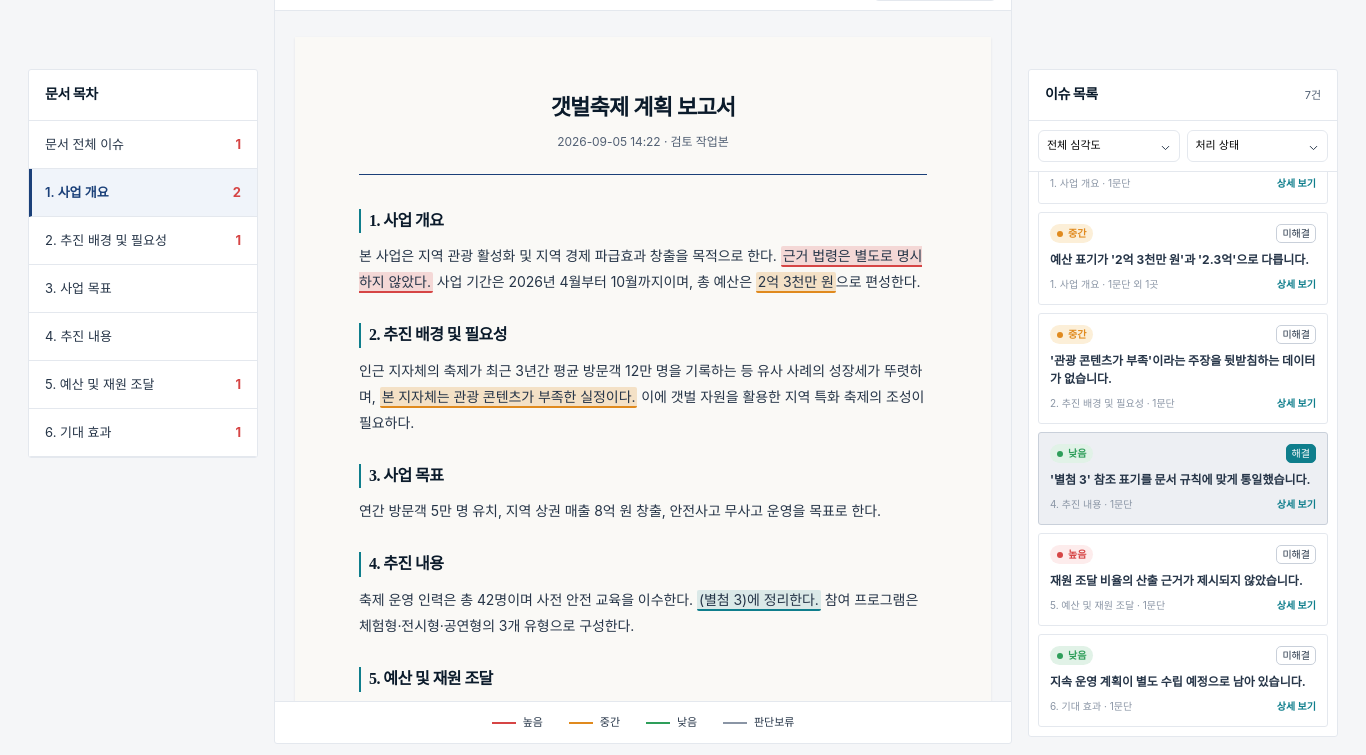
Test: ResultPage document view › 적용 완료 문장은 잠그고 적용 취소 후 상세 화면에서 다시 편집할 수 있게 한다
(page scrolled)
Click the button "낮음 해결 '별첨 3' 참조 표기를 문서 규칙에 맞게 통일했습니다. 4. 추진 내용 · 1문단 상세 보기". click: (1183,478)
box: [1038,432,1328,525]
(page scrolled)
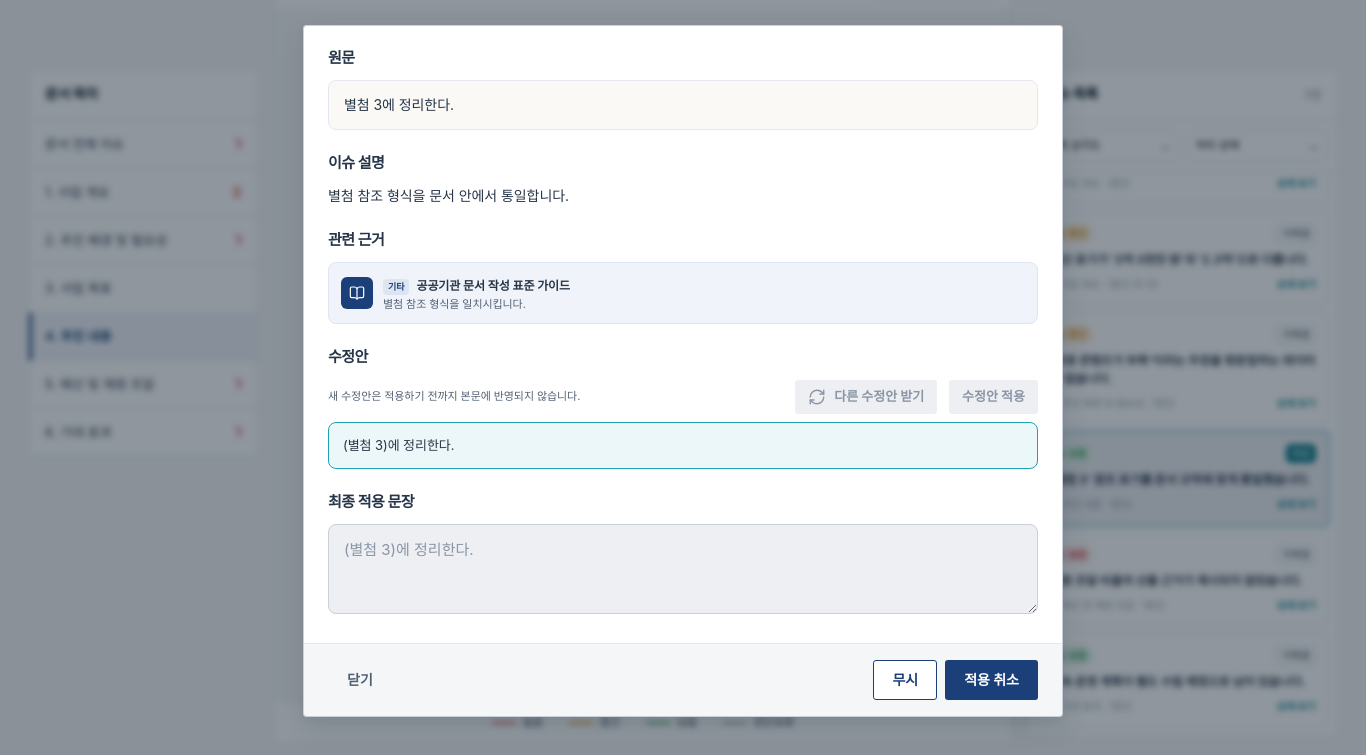
Expected: the text box named "최종 적용 문장" is disabled, [328,524,1038,614]
Expected: the button "다른 수정안 받기" is disabled, [795,380,937,414]
Expected: the button "수정안 적용" is disabled, [949,380,1038,414]
Click the button "적용 취소". click: (992,680)
box: [945,660,1038,700]
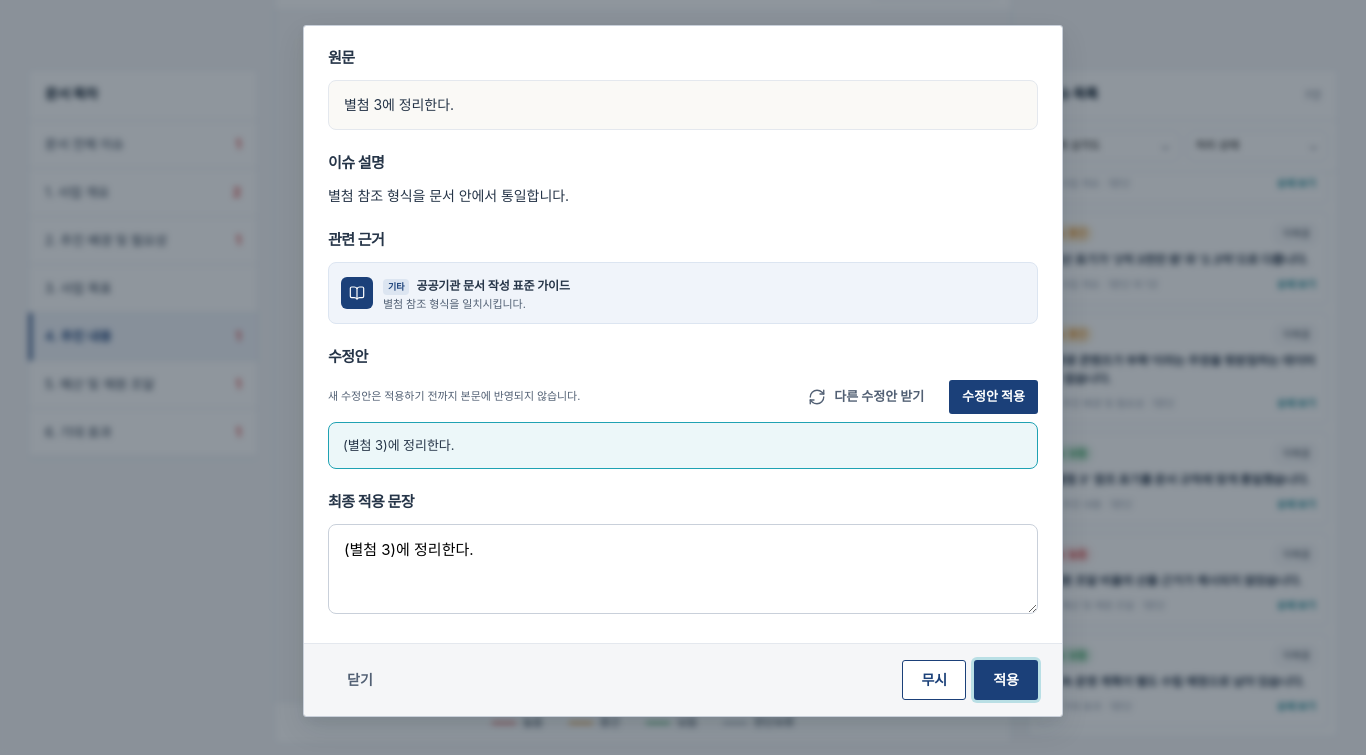
Expected: the dialog "표기 통일" is shown, [303,25,1063,717]
Expected: the text box named "최종 적용 문장" is enabled, [328,524,1038,614]
Expected: the button "다른 수정안 받기" is enabled, [795,380,937,414]
